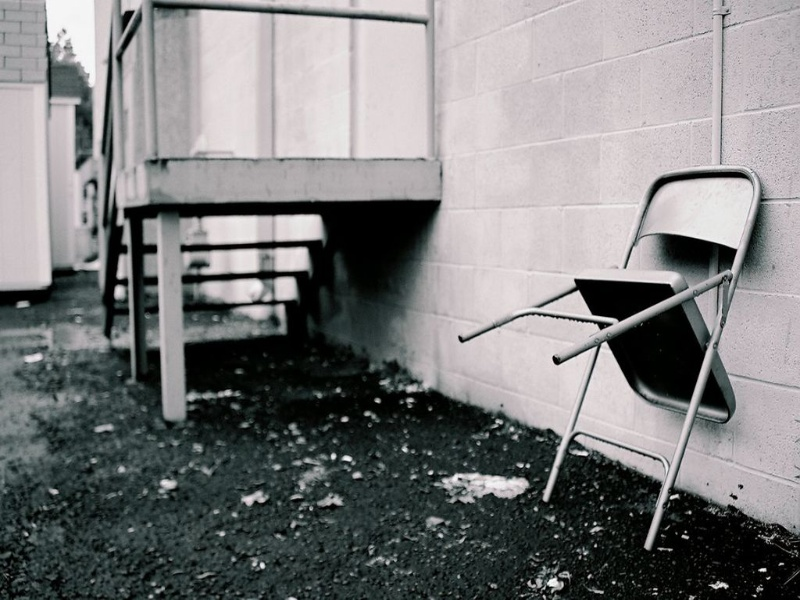chair: (459, 144, 770, 550)
